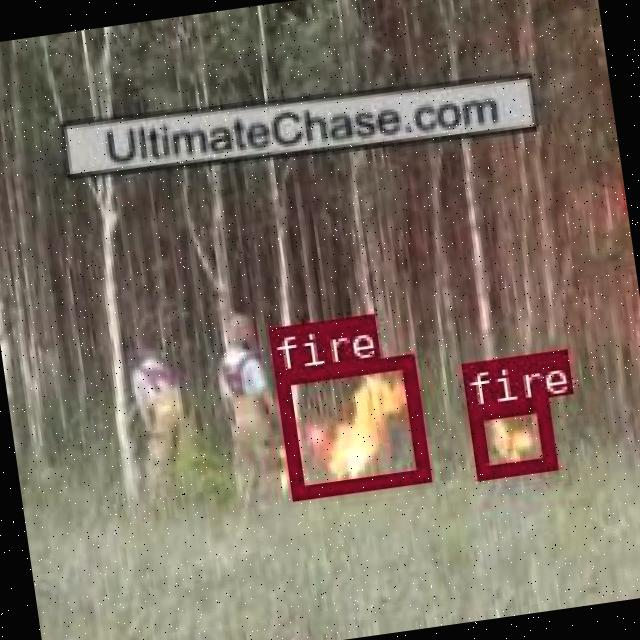fire: (274, 352, 428, 498), (465, 396, 554, 478)
